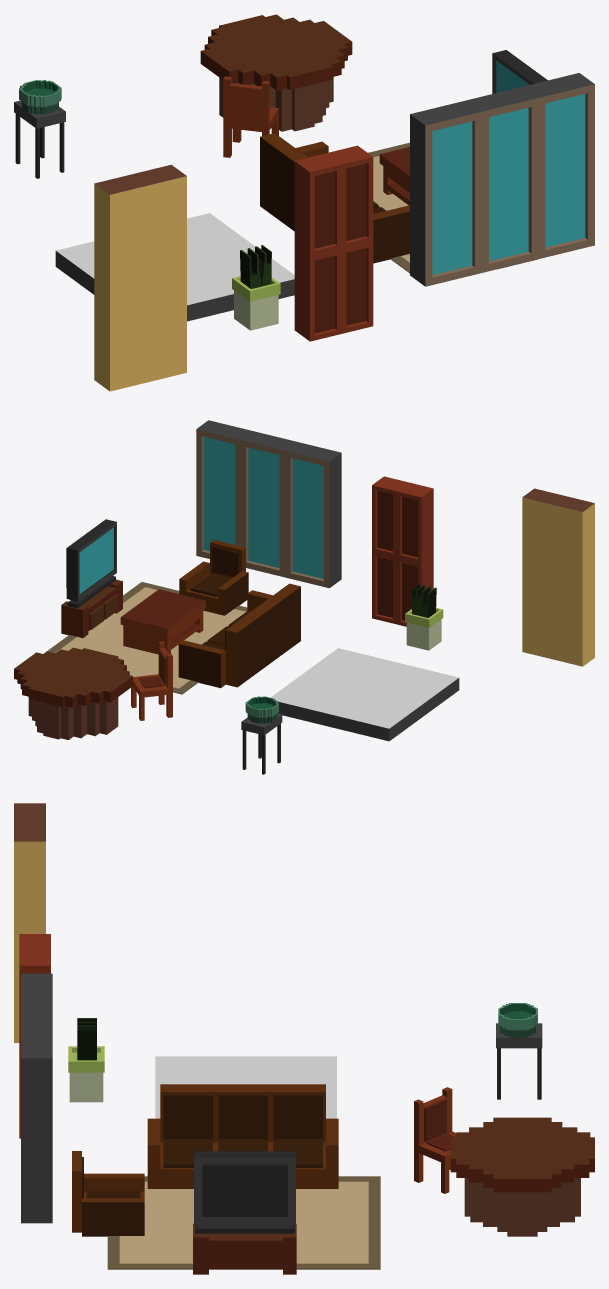
Rendered from Wall + Floor + Living Room Props .FBX.
3 views of the same model, one above another, from view 1: azimuth 30°, elevation 25°; view 2: azimuth 150°, elevation 25°; view 3: azimuth 270°, elevation 25° (orthographic). The views are drawn at different scales.
Parts seen in each view (by area): view 1: large window, wall, door, dining table, floor, sofa 3 seat, dining chair004, vase, side table, tv, coffee table, bowl (+2 smaller); view 2: large window, wall, floor, dining table, door, sofa 3 seat, carpet, coffee table, sofa 1 seat, tv, tv cabinet, dining chair004 (+4 smaller); view 3: sofa 3 seat, dining table, carpet, tv, large window, floor, sofa 1 seat, wall, tv cabinet, dining chair004, vase, door (+3 smaller).
Part boxes in pixels (x1,y1,x2,y2): large window: (410,73,594,286); wall: (94,164,186,391); door: (294,145,373,341); dining table: (200,14,352,131); floor: (55,213,294,321); sofa 3 seat: (260,133,409,263); dining chair004: (223,76,278,157); vase: (232,276,280,330); side table: (14,100,65,178); tv: (492,50,547,93); coffee table: (379,147,409,205); bowl: (19,80,61,114); large window: (196,420,341,588); wall: (522,488,594,666); floor: (270,648,459,741); dining table: (14,647,132,739); door: (372,476,433,626); sofa 3 seat: (178,583,300,688); carpet: (43,582,247,694); coffee table: (120,589,205,654); sofa 1 seat: (179,539,248,615); tv: (66,519,116,608); tv cabinet: (61,579,122,637); dining chair004: (131,641,172,720); sofa 3 seat: (147,1084,338,1188); dining table: (450,1117,594,1236); carpet: (107,1176,380,1269); tv: (194,1151,295,1233); large window: (21,973,52,1223); floor: (155,1056,336,1118); sofa 1 seat: (72,1151,144,1236); wall: (14,803,45,1042); tv cabinet: (193,1223,296,1274); dining chair004: (414,1087,456,1193); vase: (68,1046,104,1102); door: (19,934,50,1138).
Bounding box in the file's own units: 7.02 × 2.64 × 6.39.
